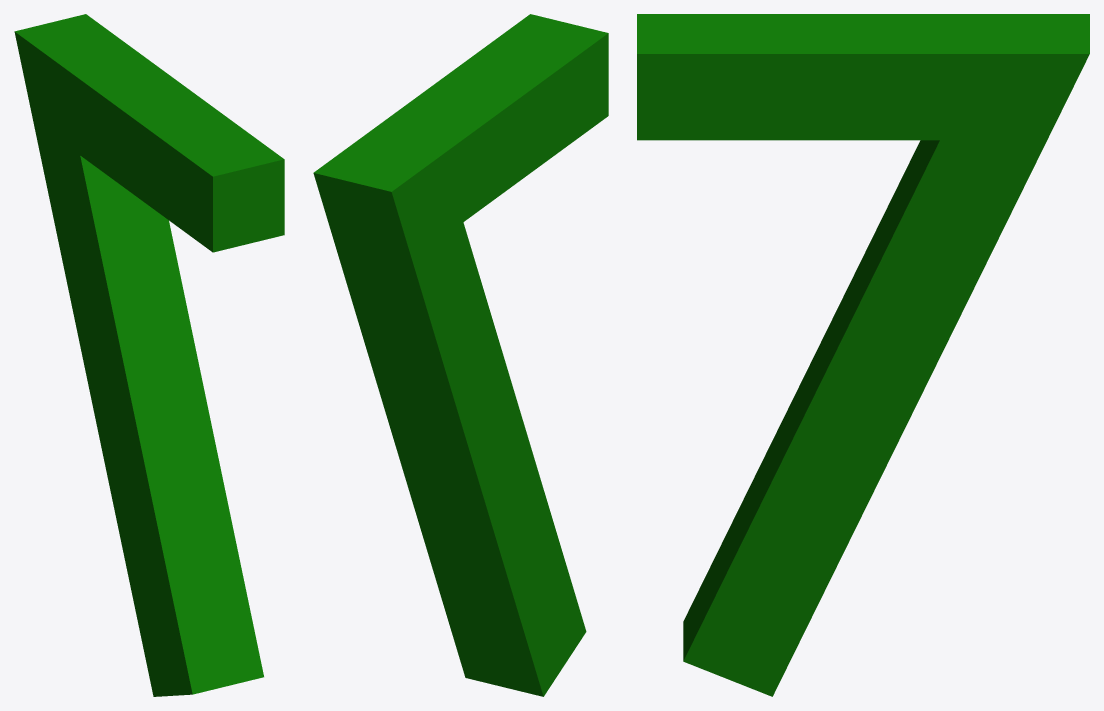
Rendered from number(7).fbx.
3 renders of one model, left to right at view 1: azimuth 30°, elevation 25°; view 2: azimuth 150°, elevation 25°; view 3: azimuth 270°, elevation 25°, orthographic. The views are drawn at different scales.
Visible parts, largest first — view 1: Text; view 2: Text; view 3: Text.
Part boxes in pixels (x1,y1,x2,y2): Text: (14, 14, 284, 696); Text: (313, 14, 608, 696); Text: (637, 14, 1089, 696).
Size of the model in its own units: 9.18 by 69.1 by 44.1.
